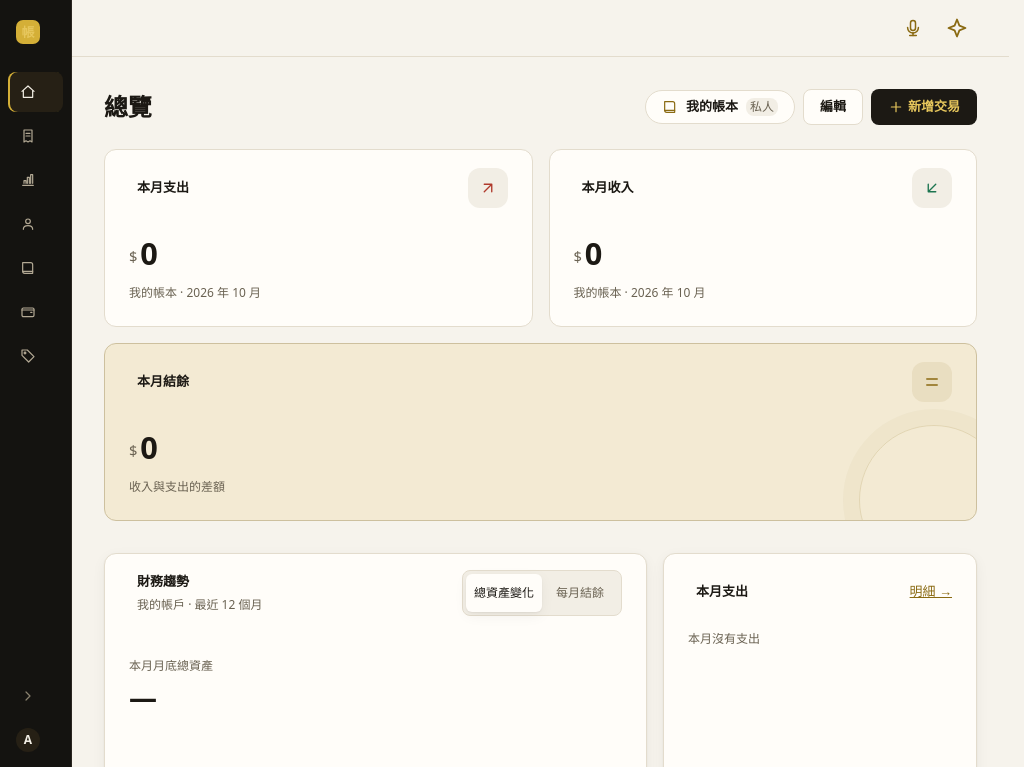
TransactionForm › swaps the transaction fields for the debt entry form when 借還 is picked
The width and height of the screenshot is (1024, 767).
Click the button "新增交易". click: (924, 107)
box: [871,89,977,125]
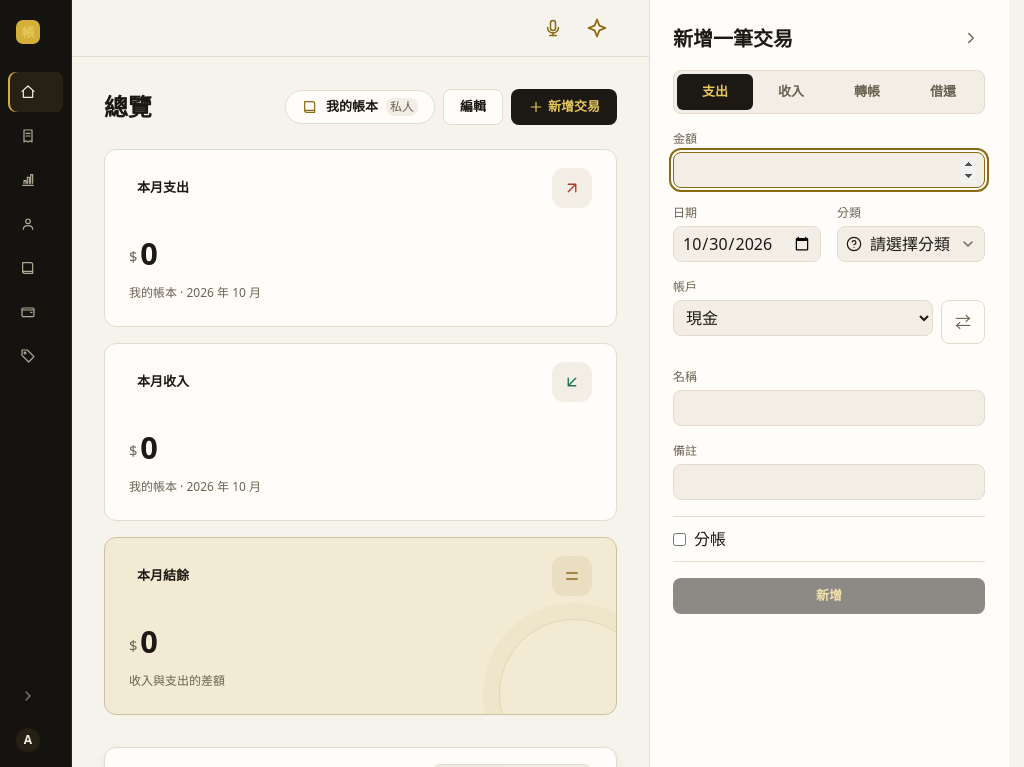
Expected: the dropdown labelled "帳戶" shows "現金", [673,300,933,336]
Click the button "借還". click: (943, 92)
box: [905,74,981,110]
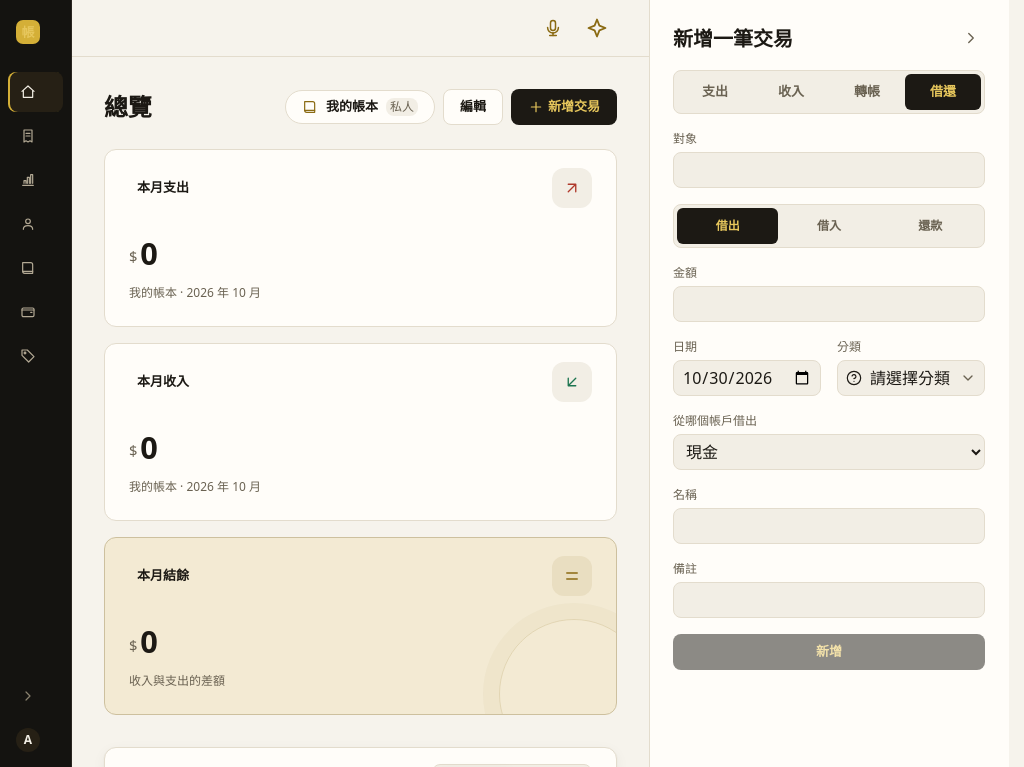
Expected: the button "借出" is shown, [677,208,778,244]
Expected: the button "借入" is shown, [778,208,880,244]
Expected: the buttons read "借出", "借入", "還款", in this order, [677,208,778,244]; [778,208,880,244]; [880,208,981,244]
